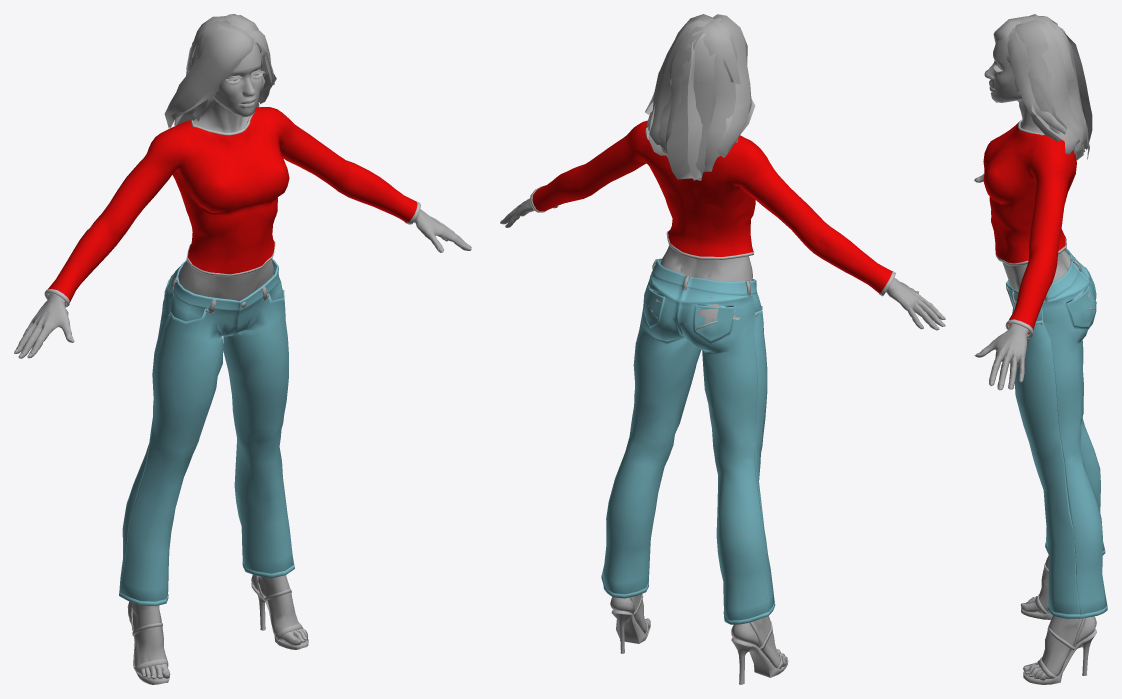
Rendered from human_scale_texture.fbx.
3 views of the same model, side by side, from view 1: azimuth 30°, elevation 25°; view 2: azimuth 150°, elevation 25°; view 3: azimuth 270°, elevation 25° (orthographic). The views are drawn at different scales.
Parts seen in each view (by area): view 1: polySurface1; view 2: polySurface1; view 3: polySurface1.
Boxes of the visible parts, <box> form: polySurface1: <box>14,14,471,684</box>; polySurface1: <box>500,14,945,684</box>; polySurface1: <box>974,14,1107,684</box>.
Size of the model in its own units: 132 by 180 by 34.68.
